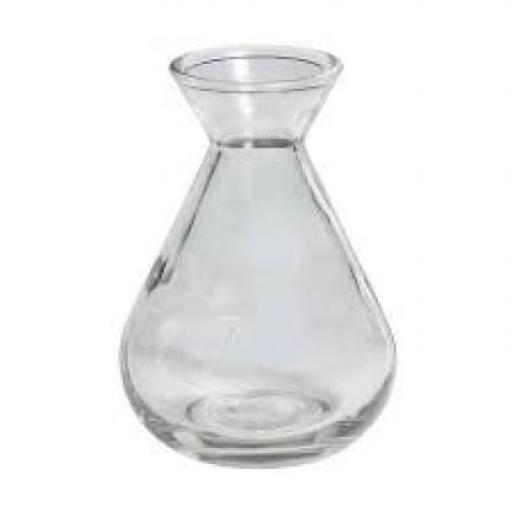glass: (123, 41, 398, 464)
